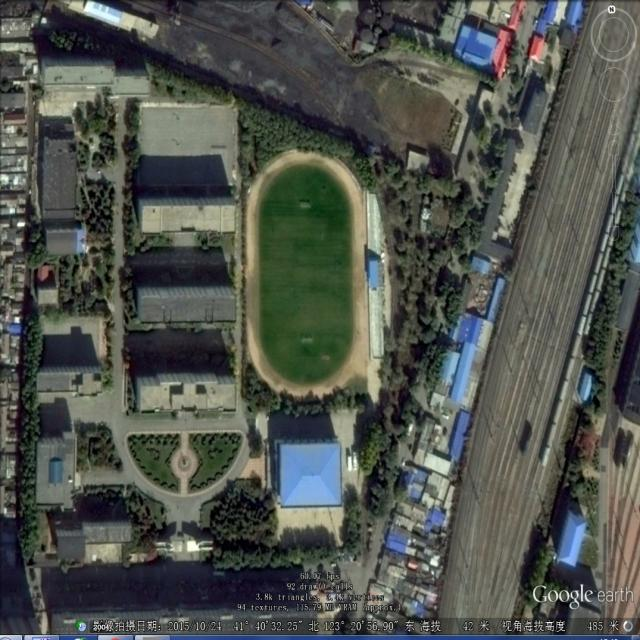playground: (244, 149, 373, 405)
